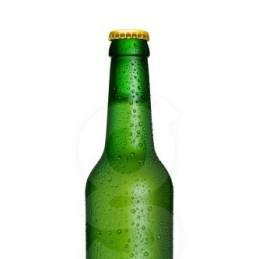beer: (84, 30, 173, 259)
